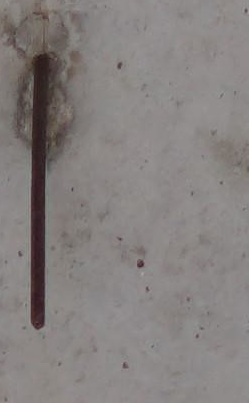Exposed reinforcement: (30, 54, 49, 330)
Spalling: (13, 12, 71, 146)
